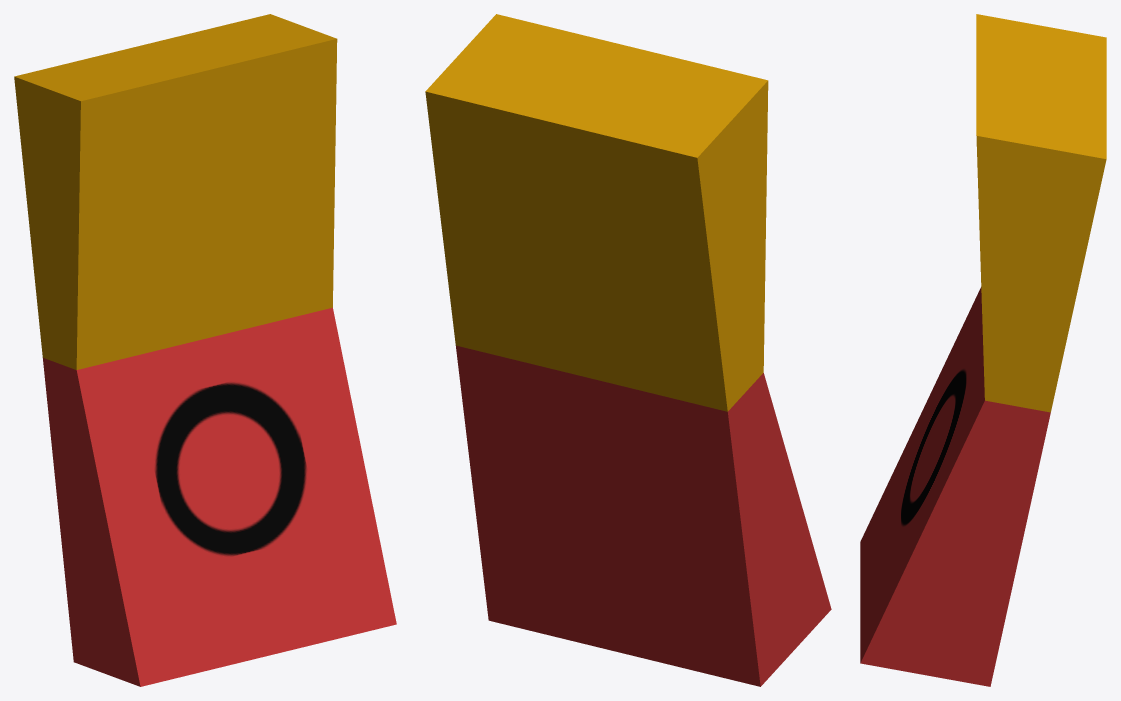
Rendered from off_body.fbx.
3 views of the same model, side by side, from view 1: azimuth 30°, elevation 25°; view 2: azimuth 150°, elevation 25°; view 3: azimuth 270°, elevation 25° (orthographic). The views are drawn at different scales.
Visible parts, largest first — view 1: off; view 2: off; view 3: off.
Part boxes in pixels (left/top/right/bottom): off: left=14, top=14, right=396, bottom=686; off: left=425, top=14, right=831, bottom=686; off: left=860, top=14, right=1106, bottom=686.
Bounding box in the file's own units: 3.53 × 7.45 × 3.01.
1 material, 1 textured.
